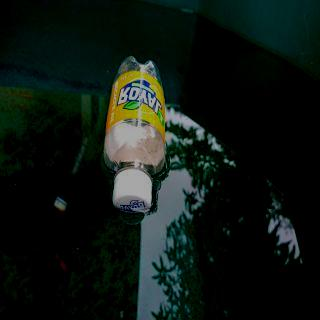bottle: (101, 54, 167, 215)
